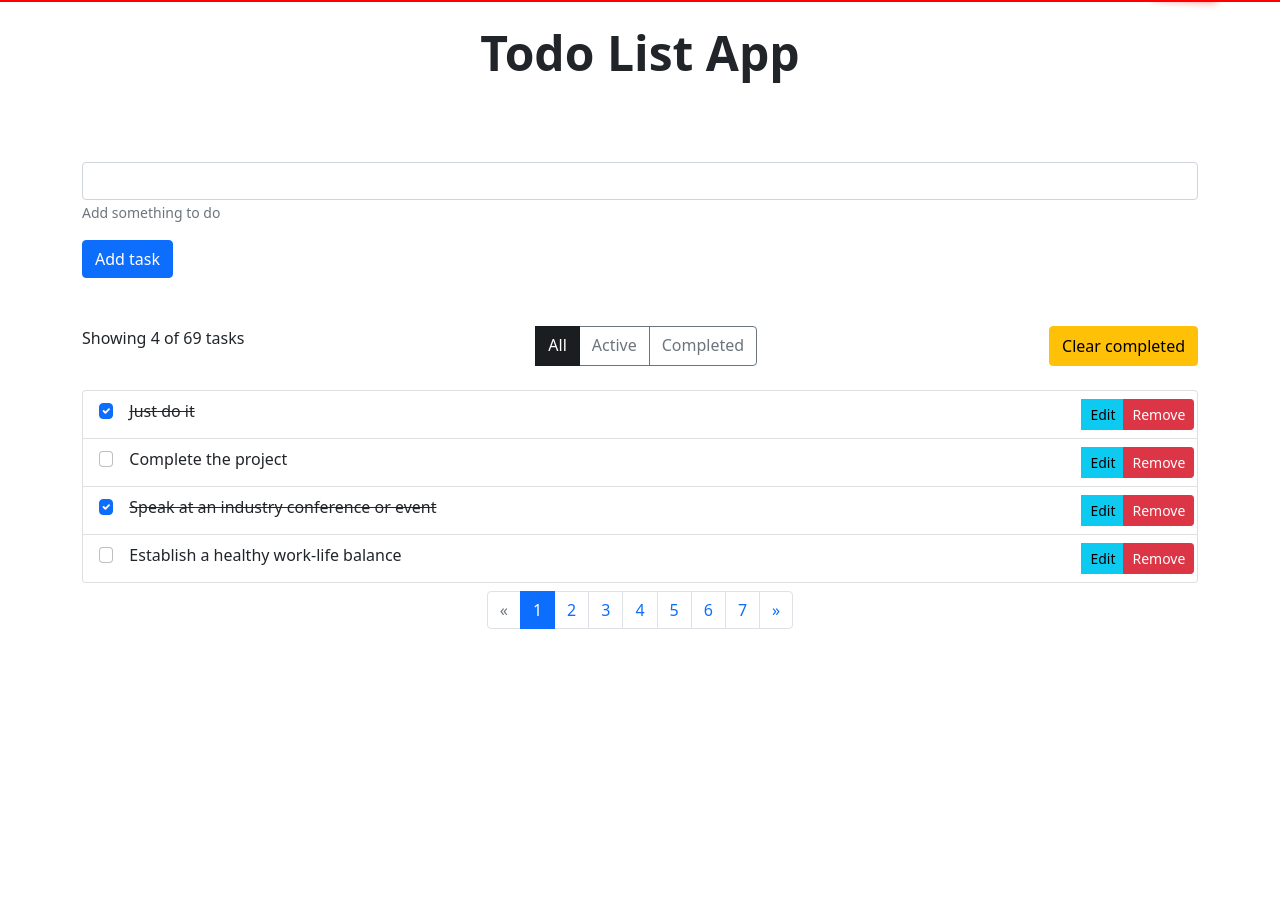
Test: <App /> › should add a task
Type "Buy milk" into the field named "Task" at coordinates (640, 181), box [82,162,1198,200]
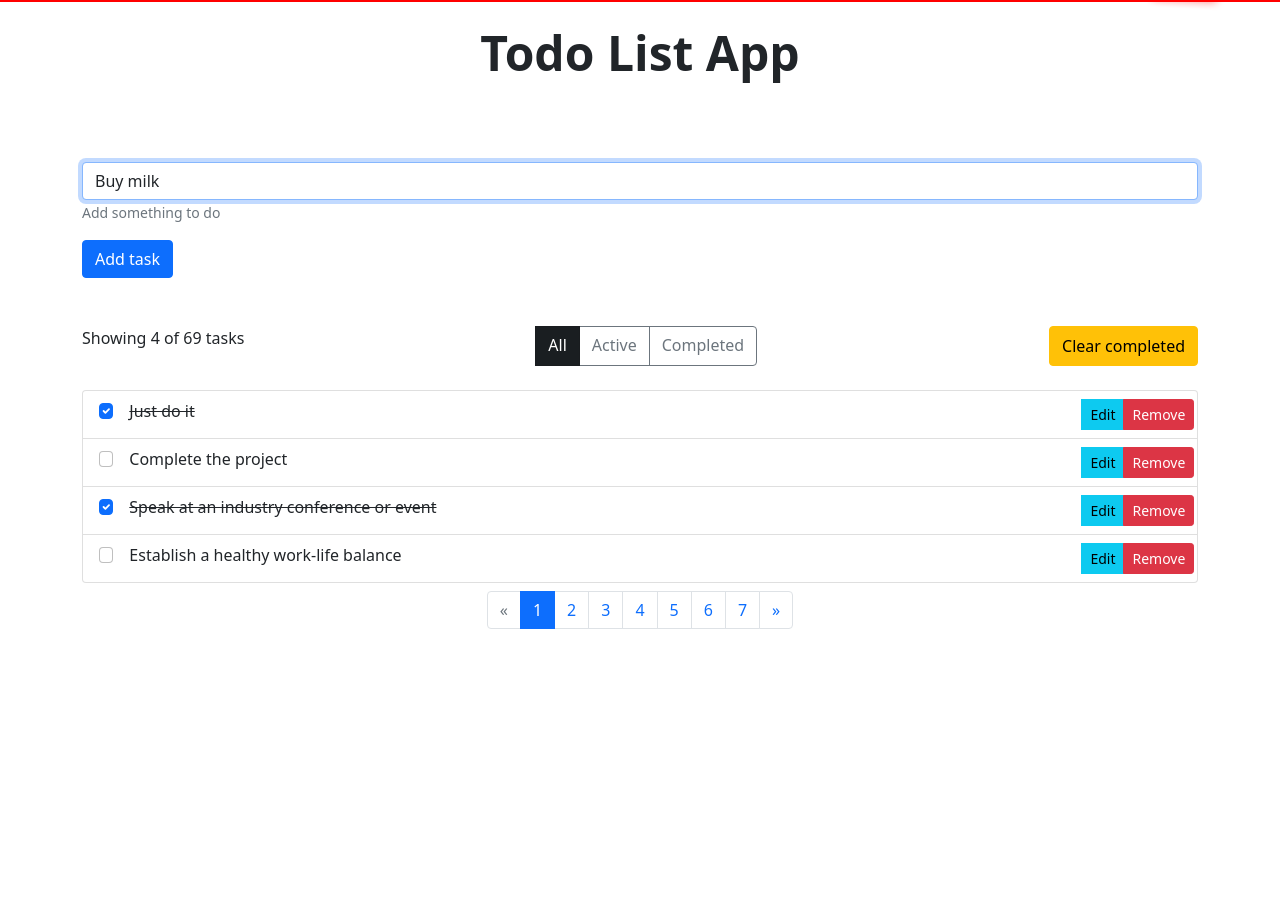
Click the button "Add task" at coordinates (128, 259), box [82,240,173,278]
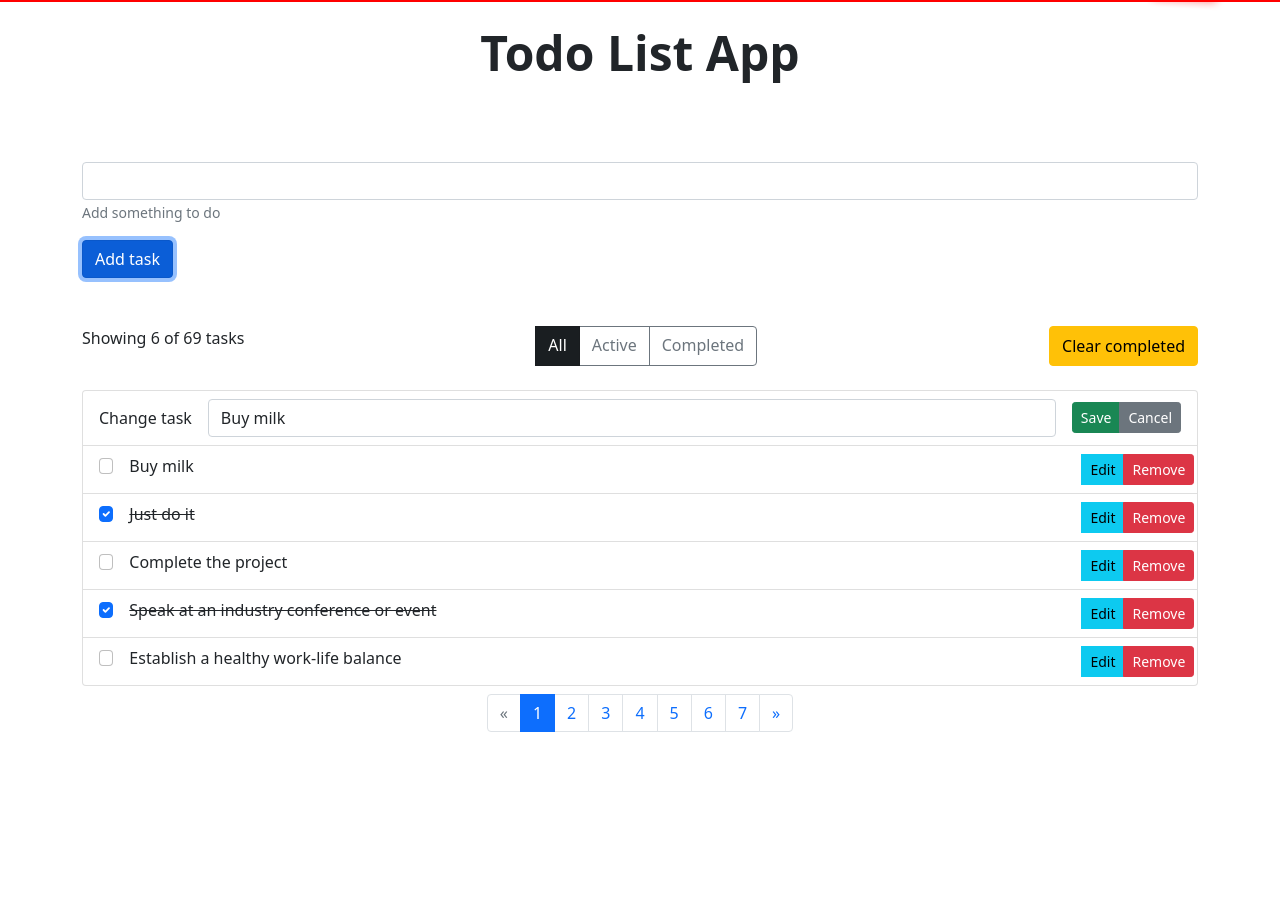
Check: the text "Buy milk" is shown, box [129,455,194,477]
